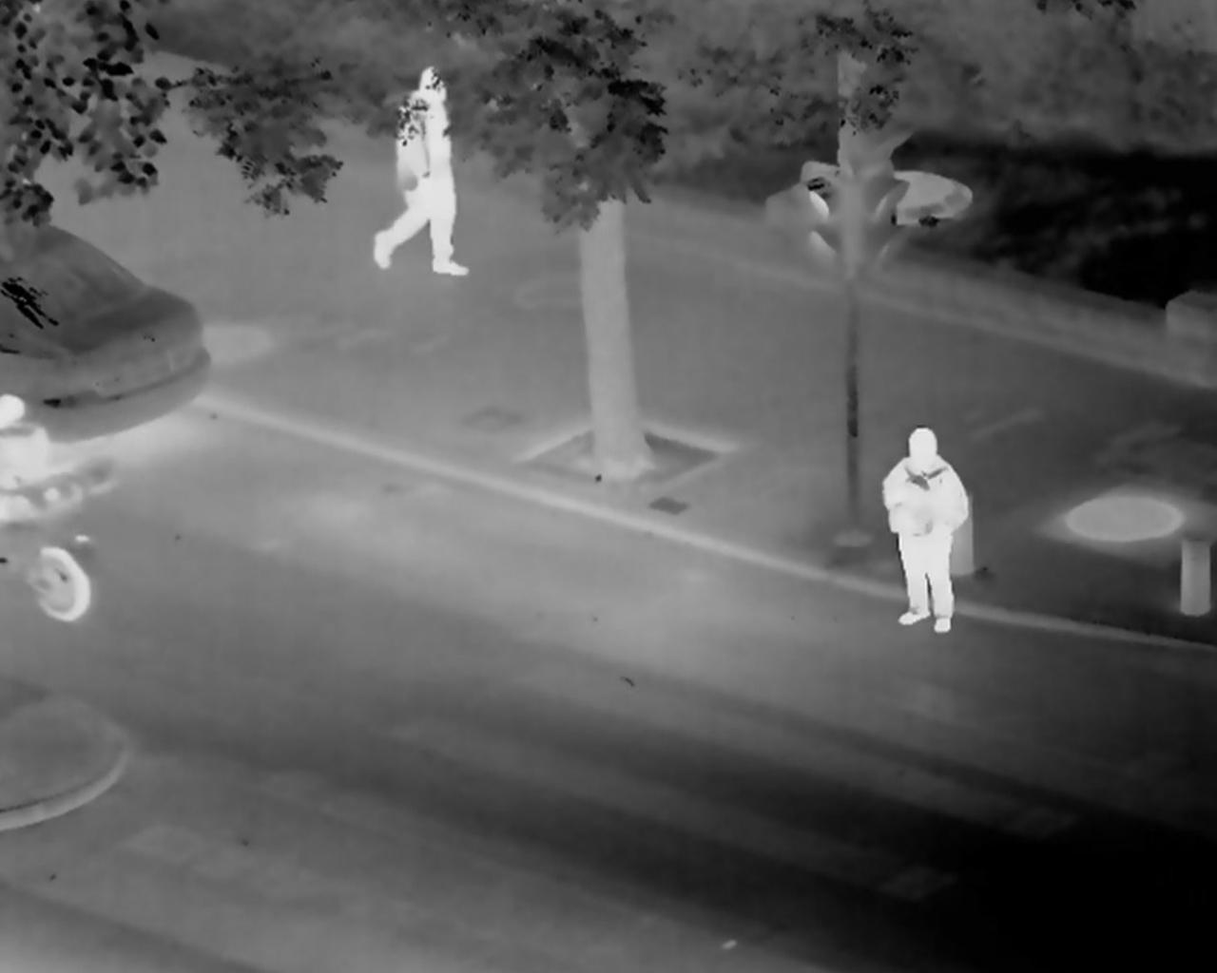person: (368, 66, 470, 278), (882, 425, 968, 636)
